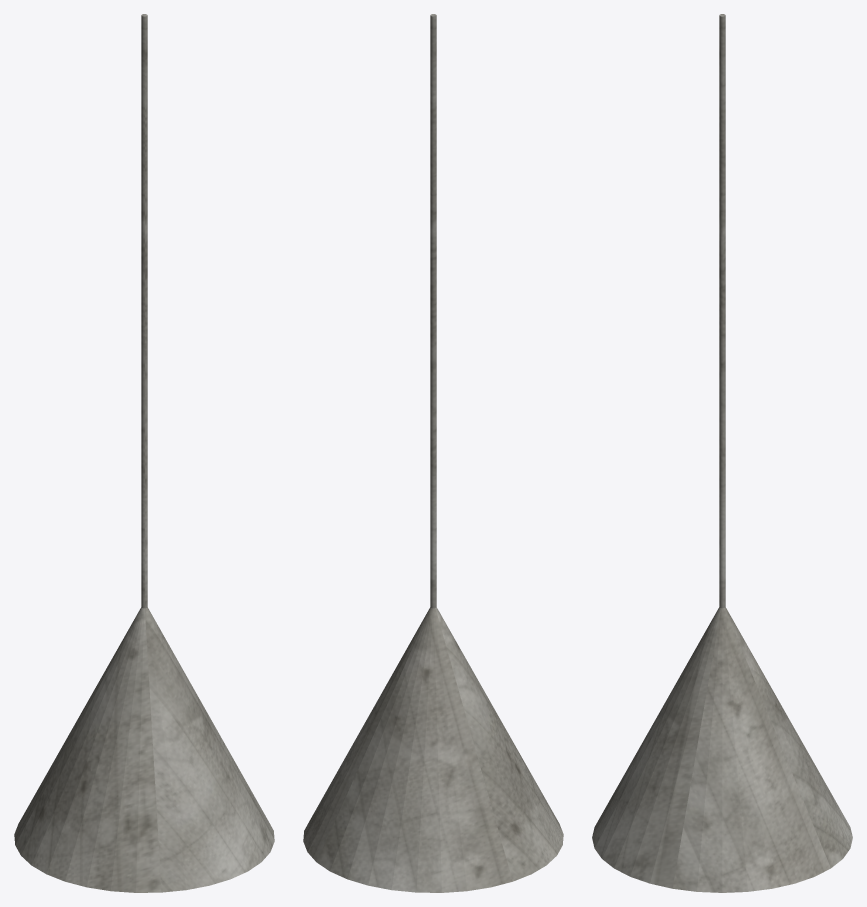
The model's file is ceilinglamp.glb.
3 views of the same model, side by side, from view 1: azimuth 30°, elevation 25°; view 2: azimuth 150°, elevation 25°; view 3: azimuth 270°, elevation 25° (orthographic).
Parts seen in each view (by area): view 1: Cone; view 2: Cone; view 3: Cone.
Boxes of the visible parts, bbox=[...] form: Cone: bbox=[14, 14, 274, 892]; Cone: bbox=[303, 14, 563, 892]; Cone: bbox=[592, 14, 852, 892].
Size of the model in its own units: 2 by 6.96 by 2.
Materials: 1 (1 with a texture image).
